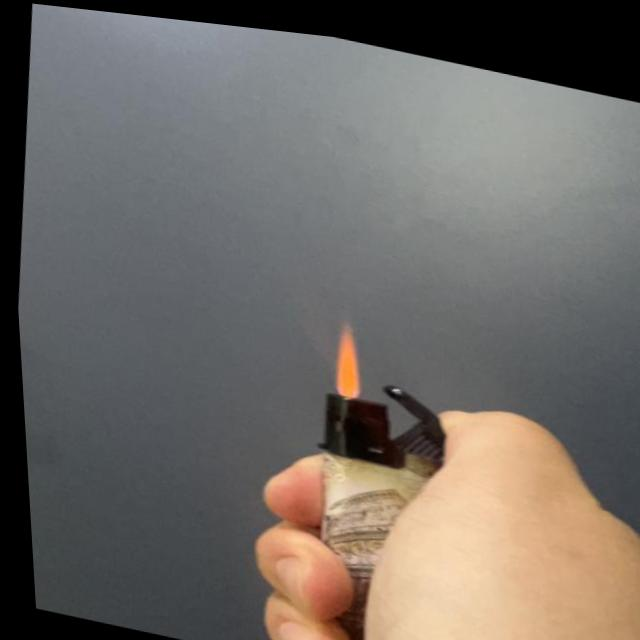Fire: (324, 310, 365, 391)
